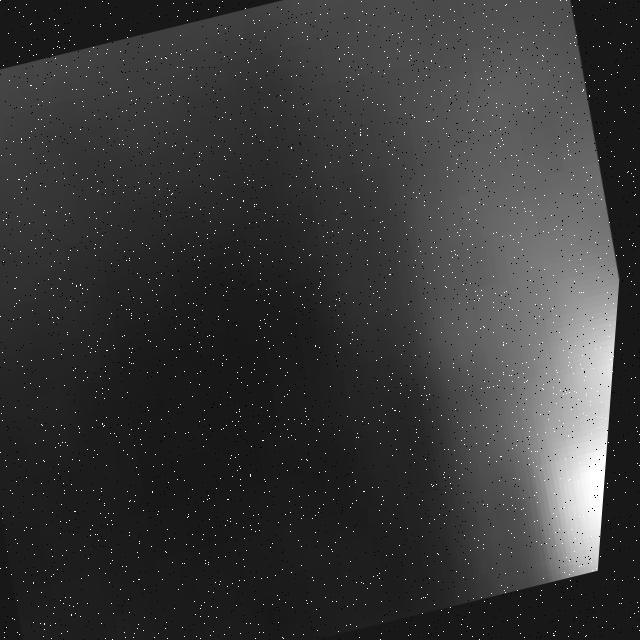person: (451, 192, 630, 587)
